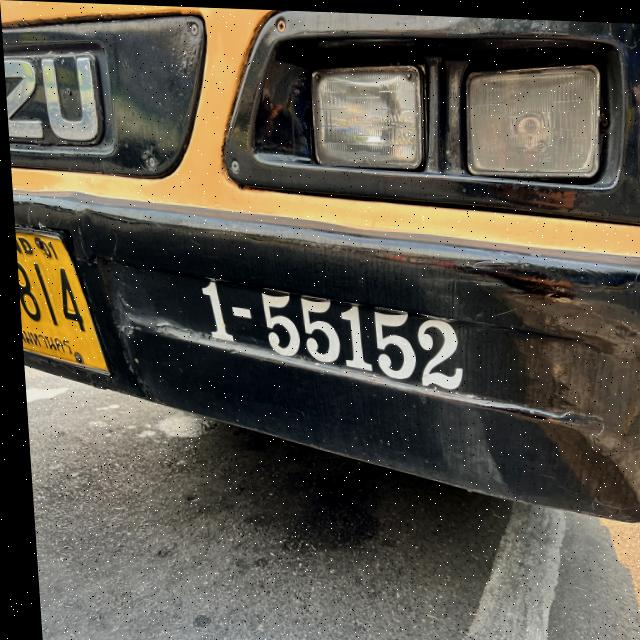BMTA-bus: (0, 0, 640, 527)
